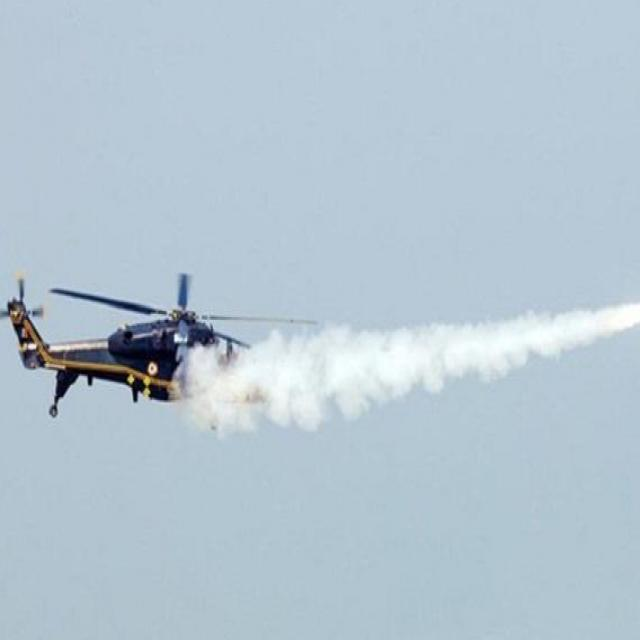helicopter: (3, 256, 322, 458)
